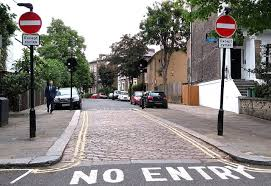No_entry: (17, 12, 42, 34), (214, 15, 237, 37)
